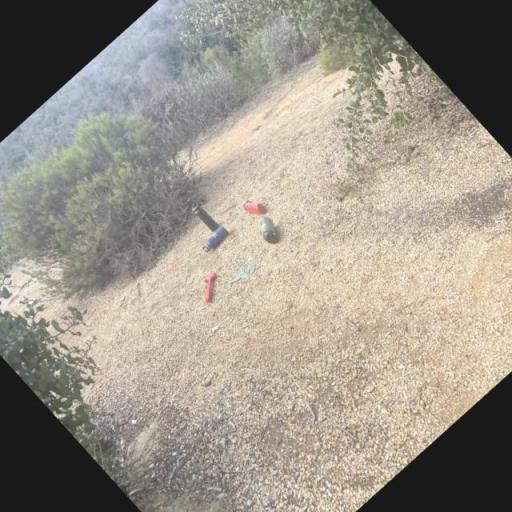bottle: (186, 196, 219, 232), (252, 214, 283, 245), (199, 224, 231, 254), (240, 194, 266, 220)
mallet: (192, 269, 228, 304)
